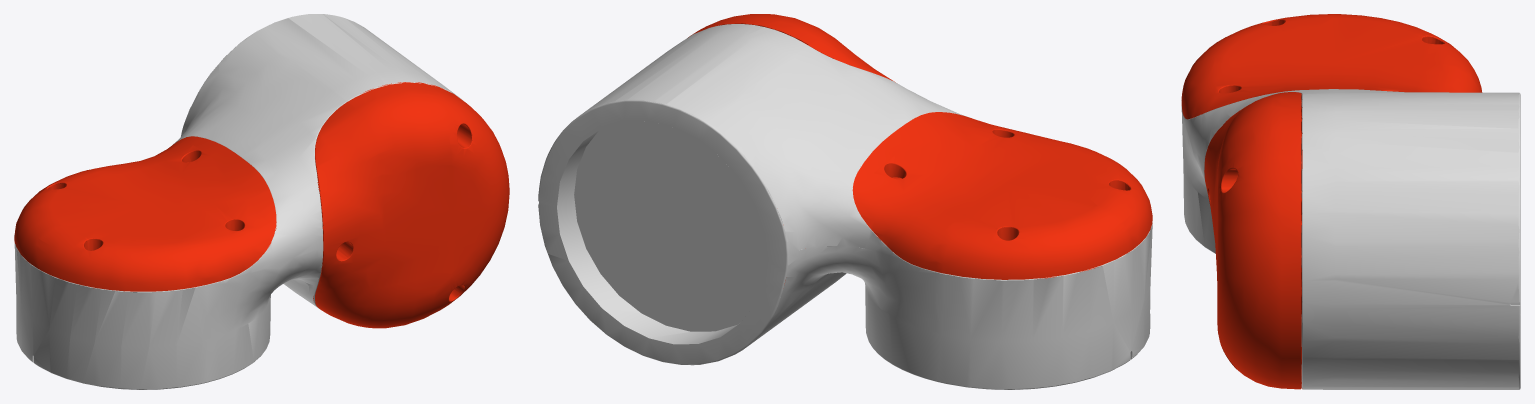
3 renders of one model, left to right at view 1: azimuth 30°, elevation 25°; view 2: azimuth 150°, elevation 25°; view 3: azimuth 270°, elevation 25°, orthographic. The views are drawn at different scales.
Visible parts, largest first — view 1: Mesh (×2); view 2: Mesh (×4); view 3: Mesh (×2).
Boxes of the visible parts, x1,y1,x2,y2 form: Mesh (×2): (14,14,509,389); Mesh (×4): (538,14,1152,389); Mesh (×2): (1181,14,1520,389).
Bounding box in the file's own units: 170 × 83 × 94.57.
